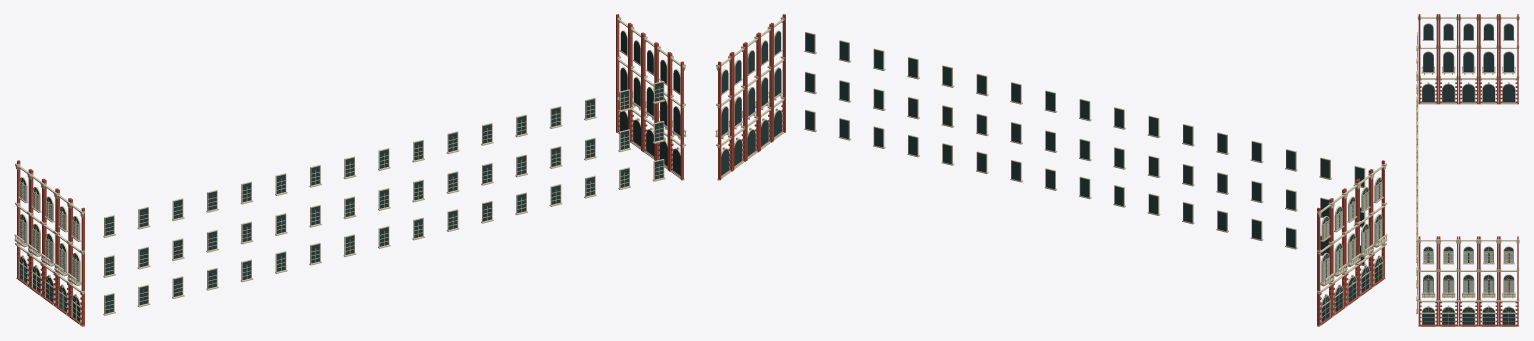
Rendered from KOL_T1_WRITERS__04_Returns.fbx.
3 renders of one model, left to right at view 1: azimuth 30°, elevation 25°; view 2: azimuth 150°, elevation 25°; view 3: azimuth 270°, elevation 25°, orthographic. The views are drawn at different scales.
Parts seen in each view (by area): view 1: KOL_T1_WRITERS__04_Returns__KOL_T1_HeritageGlass, KOL_T1_WRITERS__04_Returns__KOL_T1_HeritageRedLight, KOL_T1_WRITERS__04_Returns__KOL_T1_HeritageCream.003, KOL_T1_WRITERS__04_Returns__KOL_T1_HeritageCream.004, KOL_T1_WRITERS__04_Returns__KOL_T1_HeritageCream, KOL_T1_WRITERS__04_Returns__KOL_T1_HeritageCream.001, KOL_T1_WRITERS__04_Returns__KOL_T1_HeritageCream.002, KOL_T1_WRITERS__04_Returns__KOL_T1_HeritageShutter, KOL_T1_WRITERS__04_Returns__KOL_T1_HeritageIron; view 2: KOL_T1_WRITERS__04_Returns__KOL_T1_HeritageGlass, KOL_T1_WRITERS__04_Returns__KOL_T1_HeritageRedLight, KOL_T1_WRITERS__04_Returns__KOL_T1_HeritageCream.003, KOL_T1_WRITERS__04_Returns__KOL_T1_HeritageCream, KOL_T1_WRITERS__04_Returns__KOL_T1_HeritageCream.001, KOL_T1_WRITERS__04_Returns__KOL_T1_HeritageCream.004, KOL_T1_WRITERS__04_Returns__KOL_T1_HeritageCream.002, KOL_T1_WRITERS__04_Returns__KOL_T1_HeritageShutter, KOL_T1_WRITERS__04_Returns__KOL_T1_HeritageIron; view 3: KOL_T1_WRITERS__04_Returns__KOL_T1_HeritageGlass, KOL_T1_WRITERS__04_Returns__KOL_T1_HeritageRedLight, KOL_T1_WRITERS__04_Returns__KOL_T1_HeritageCream.002, KOL_T1_WRITERS__04_Returns__KOL_T1_HeritageCream.001, KOL_T1_WRITERS__04_Returns__KOL_T1_HeritageCream.003, KOL_T1_WRITERS__04_Returns__KOL_T1_HeritageCream, KOL_T1_WRITERS__04_Returns__KOL_T1_HeritageShutter, KOL_T1_WRITERS__04_Returns__KOL_T1_HeritageCream.004, KOL_T1_WRITERS__04_Returns__KOL_T1_HeritageIron.
Boxes of the visible parts, bbox=[...] form: KOL_T1_WRITERS__04_Returns__KOL_T1_HeritageGlass: bbox=[19, 31, 680, 321]; KOL_T1_WRITERS__04_Returns__KOL_T1_HeritageRedLight: bbox=[17, 14, 683, 326]; KOL_T1_WRITERS__04_Returns__KOL_T1_HeritageCream.003: bbox=[103, 45, 686, 315]; KOL_T1_WRITERS__04_Returns__KOL_T1_HeritageCream.004: bbox=[481, 81, 665, 215]; KOL_T1_WRITERS__04_Returns__KOL_T1_HeritageCream: bbox=[14, 163, 56, 305]; KOL_T1_WRITERS__04_Returns__KOL_T1_HeritageCream.001: bbox=[43, 30, 633, 326]; KOL_T1_WRITERS__04_Returns__KOL_T1_HeritageCream.002: bbox=[617, 16, 673, 167]; KOL_T1_WRITERS__04_Returns__KOL_T1_HeritageShutter: bbox=[19, 182, 78, 281]; KOL_T1_WRITERS__04_Returns__KOL_T1_HeritageIron: bbox=[19, 263, 78, 321]; KOL_T1_WRITERS__04_Returns__KOL_T1_HeritageGlass: bbox=[721, 31, 1382, 321]; KOL_T1_WRITERS__04_Returns__KOL_T1_HeritageRedLight: bbox=[718, 14, 1384, 326]; KOL_T1_WRITERS__04_Returns__KOL_T1_HeritageCream.003: bbox=[761, 16, 1366, 266]; KOL_T1_WRITERS__04_Returns__KOL_T1_HeritageCream: bbox=[1317, 183, 1360, 326]; KOL_T1_WRITERS__04_Returns__KOL_T1_HeritageCream.001: bbox=[715, 69, 1387, 307]; KOL_T1_WRITERS__04_Returns__KOL_T1_HeritageCream.004: bbox=[804, 32, 988, 165]; KOL_T1_WRITERS__04_Returns__KOL_T1_HeritageCream.002: bbox=[716, 36, 769, 180]; KOL_T1_WRITERS__04_Returns__KOL_T1_HeritageShutter: bbox=[1323, 182, 1382, 281]; KOL_T1_WRITERS__04_Returns__KOL_T1_HeritageIron: bbox=[1323, 263, 1382, 321]; KOL_T1_WRITERS__04_Returns__KOL_T1_HeritageGlass: bbox=[1422, 24, 1514, 324]; KOL_T1_WRITERS__04_Returns__KOL_T1_HeritageRedLight: bbox=[1418, 14, 1518, 326]; KOL_T1_WRITERS__04_Returns__KOL_T1_HeritageCream.002: bbox=[1441, 238, 1519, 326]; KOL_T1_WRITERS__04_Returns__KOL_T1_HeritageCream.001: bbox=[1417, 15, 1519, 326]; KOL_T1_WRITERS__04_Returns__KOL_T1_HeritageCream.003: bbox=[1416, 32, 1459, 326]; KOL_T1_WRITERS__04_Returns__KOL_T1_HeritageCream: bbox=[1458, 15, 1519, 104]; KOL_T1_WRITERS__04_Returns__KOL_T1_HeritageShutter: bbox=[1423, 252, 1513, 294]; KOL_T1_WRITERS__04_Returns__KOL_T1_HeritageCream.004: bbox=[1416, 172, 1418, 313]; KOL_T1_WRITERS__04_Returns__KOL_T1_HeritageIron: bbox=[1425, 313, 1513, 324].
Bounding box in the file's own units: 320 × 59.05 × 61.95.
